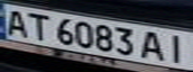0: (72, 19, 93, 49)
3: (115, 25, 139, 57)
6: (51, 16, 75, 46)
8: (93, 21, 115, 54)
A: (136, 28, 169, 62), (0, 6, 30, 37)
I: (163, 31, 193, 64)
T: (24, 10, 54, 42)
